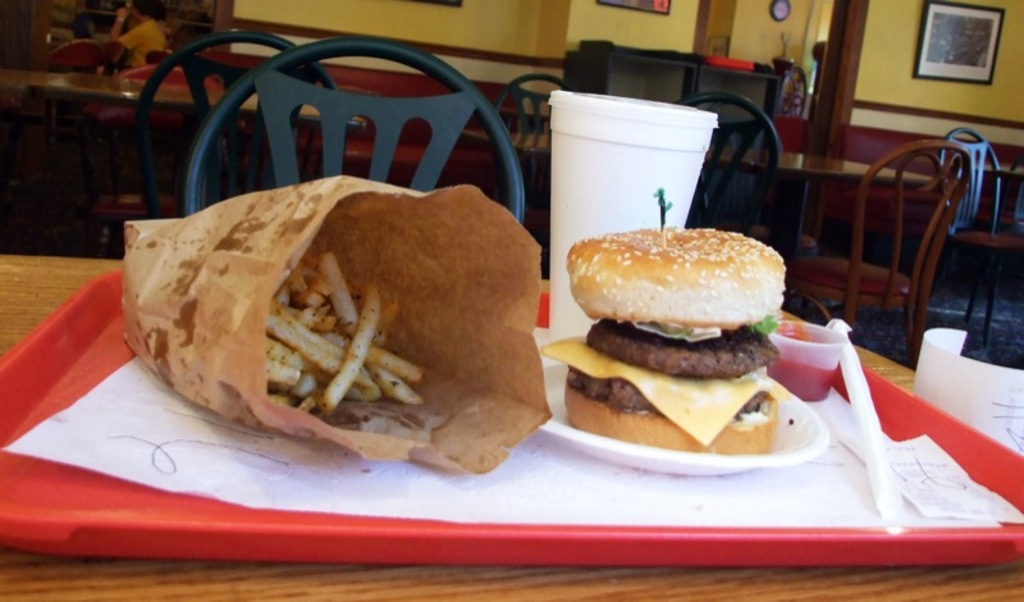Hamburger: (545, 227, 784, 455)
